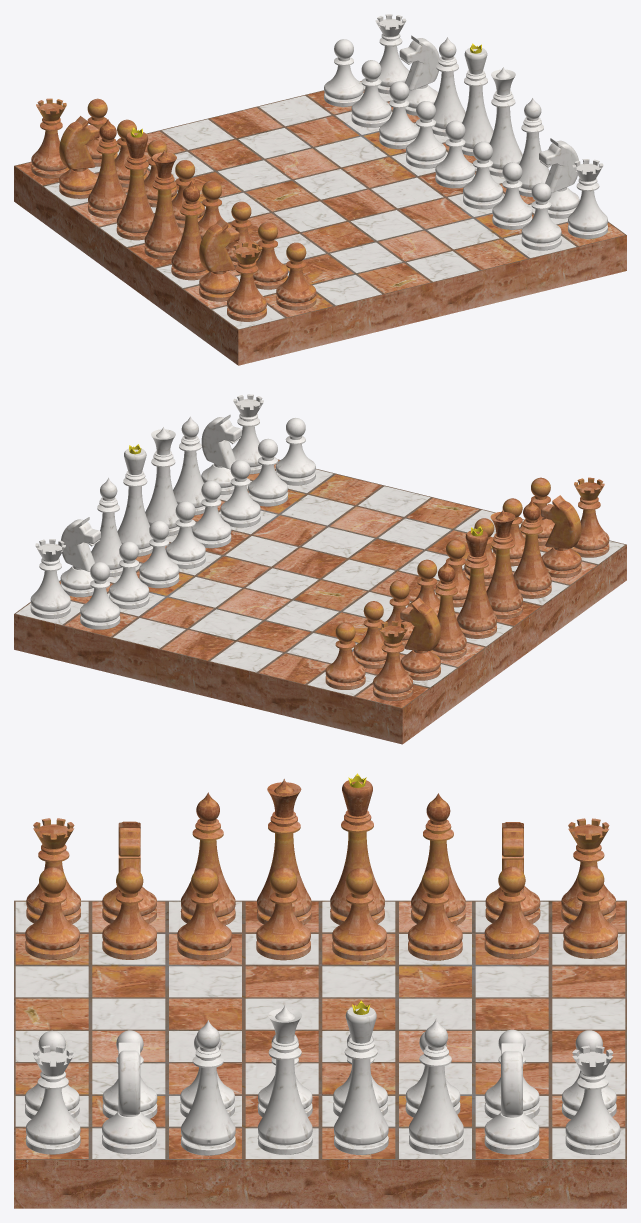
Rendered from obj_chess_for_3d_printing_3289c1.glb.
The picture shows the model from 3 angles, top to bottom: view 1: azimuth 30°, elevation 25°; view 2: azimuth 150°, elevation 25°; view 3: azimuth 270°, elevation 25°; orthographic projection. The views are drawn at different scales.
Parts seen in each view (by area): view 1: obj_chess_for_3d_printing_3289c1; view 2: obj_chess_for_3d_printing_3289c1; view 3: obj_chess_for_3d_printing_3289c1.
Part boxes in pixels (<box>): obj_chess_for_3d_printing_3289c1: <box>14,14,626,365</box>; obj_chess_for_3d_printing_3289c1: <box>14,394,626,744</box>; obj_chess_for_3d_printing_3289c1: <box>14,773,626,1208</box>.
Bounding box in the file's own units: 0.4 × 0.1358 × 0.4.
46 materials, 42 textured.
